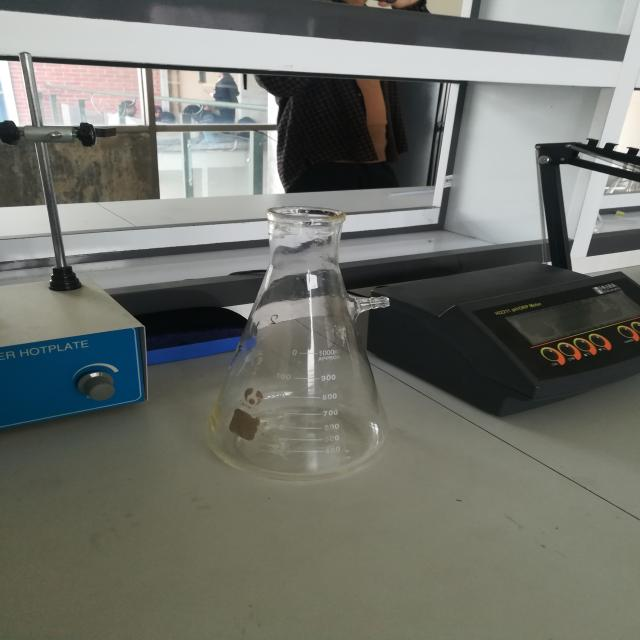Conical_Flask: (190, 170, 445, 506)
